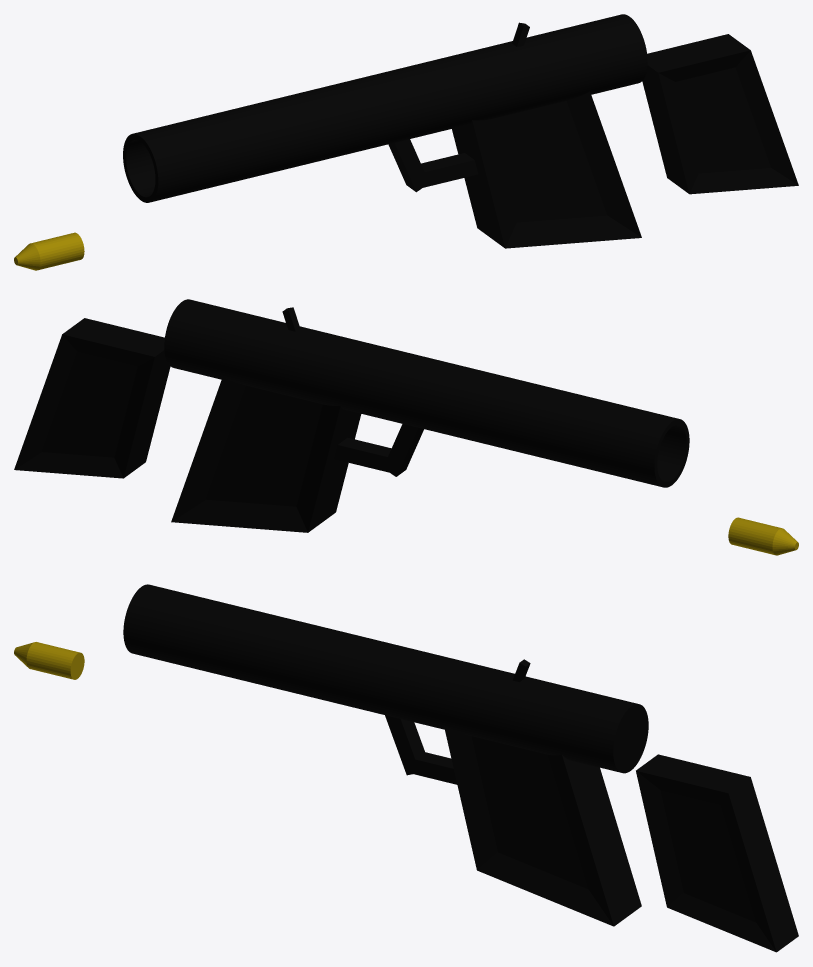
3 renders of one model, top to bottom at view 1: azimuth 30°, elevation 25°; view 2: azimuth 150°, elevation 25°; view 3: azimuth 330°, elevation 25°, orthographic.
Visible parts, largest first — view 1: 枪, 弹夹, 子弹; view 2: 枪, 弹夹, 子弹; view 3: 枪, 弹夹, 子弹.
Part boxes in pixels (x1,y1,x2,y2): 枪: (123, 14, 647, 248); 弹夹: (642, 34, 798, 194); 子弹: (14, 232, 84, 270); 枪: (164, 299, 689, 532); 弹夹: (14, 318, 170, 478); 子弹: (728, 517, 798, 555); 枪: (123, 584, 648, 926); 弹夹: (636, 754, 798, 952); 子弹: (14, 642, 84, 679).
Bounding box in the file's own units: 381 × 108 × 30.27.
